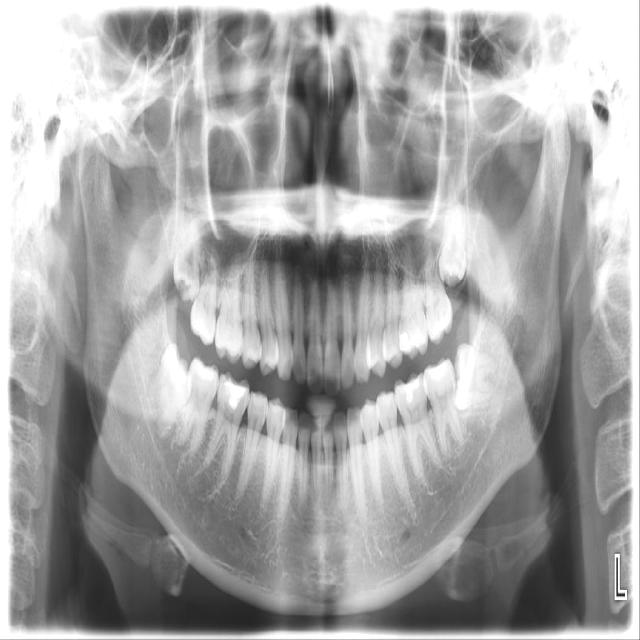Filling: (224, 379, 249, 413), (397, 375, 421, 402), (400, 332, 426, 355), (193, 357, 216, 380), (428, 365, 452, 384)
impacted tooth: (142, 347, 188, 441), (436, 188, 465, 286), (172, 204, 202, 298), (454, 346, 500, 407)
